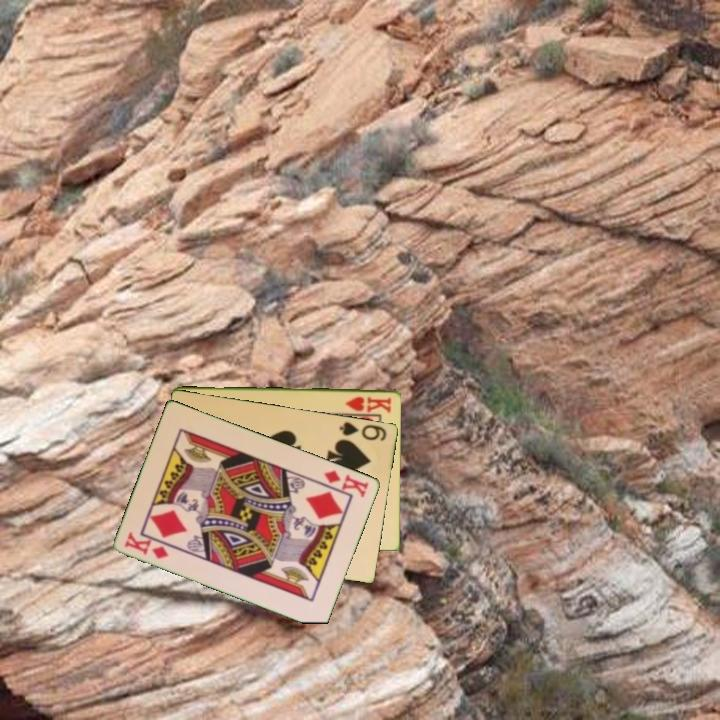6s: (336, 418, 390, 443)
Kd: (315, 466, 372, 500), (121, 528, 172, 562)
Kh: (342, 393, 394, 415)
